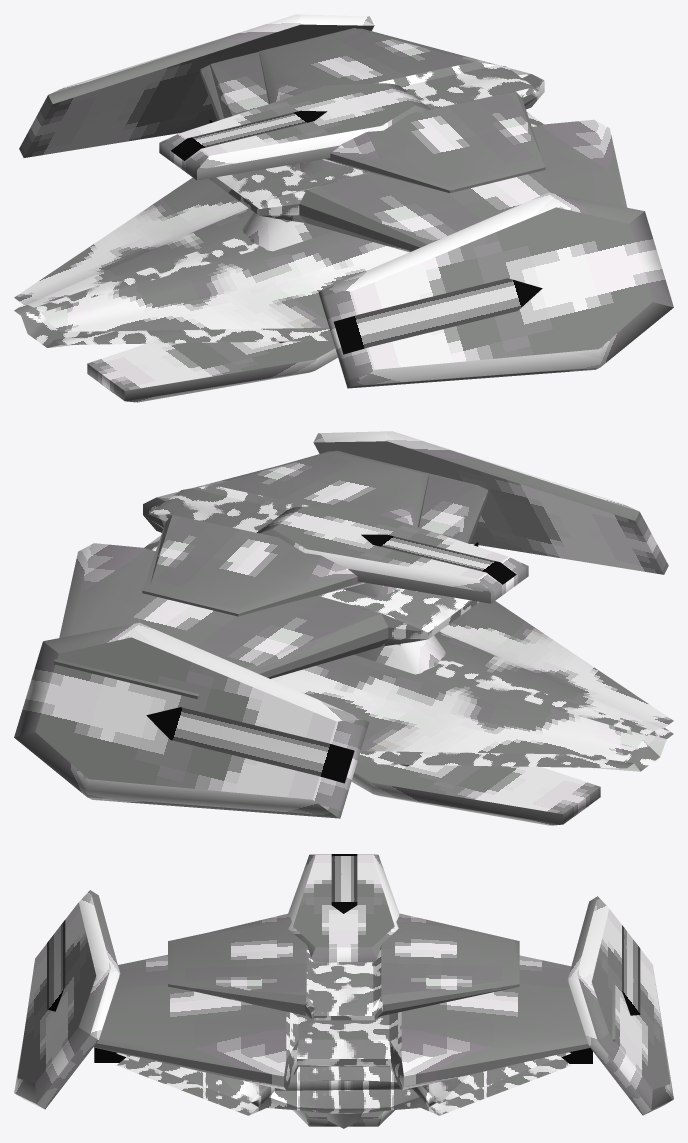
File: ppve01a.obj
3 views of the same model, one above another, from view 1: azimuth 30°, elevation 25°; view 2: azimuth 150°, elevation 25°; view 3: azimuth 270°, elevation 25° (orthographic). The views are drawn at different scales.
Visible parts, largest first — view 1: PX2_HULL0, DETAIL010.001; view 2: PX2_HULL0, DETAIL010.001; view 3: PX2_HULL0, DETAIL010.001.
Boxes of the visible parts, bbox=[...] form: PX2_HULL0: bbox=[14, 14, 673, 402]; DETAIL010.001: bbox=[107, 110, 542, 392]; PX2_HULL0: bbox=[14, 431, 673, 825]; DETAIL010.001: bbox=[146, 534, 588, 812]; PX2_HULL0: bbox=[14, 854, 673, 1128]; DETAIL010.001: bbox=[47, 854, 640, 1015].
Bounding box in the file's own units: 86.69 × 35.31 × 99.48.
Materials: 4 (2 with a texture image).
